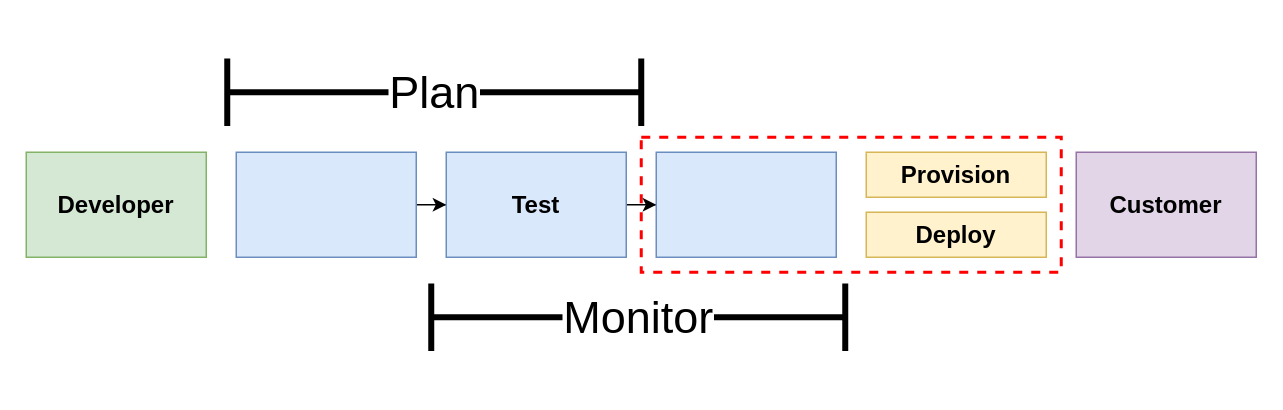
Image size: 1283x410. Some labels were removed from this diagram. The centre of each missing label's shape, as x and y in pixels:
"Build" belongs at [325,204].
"Release" belongs at [745,204].
